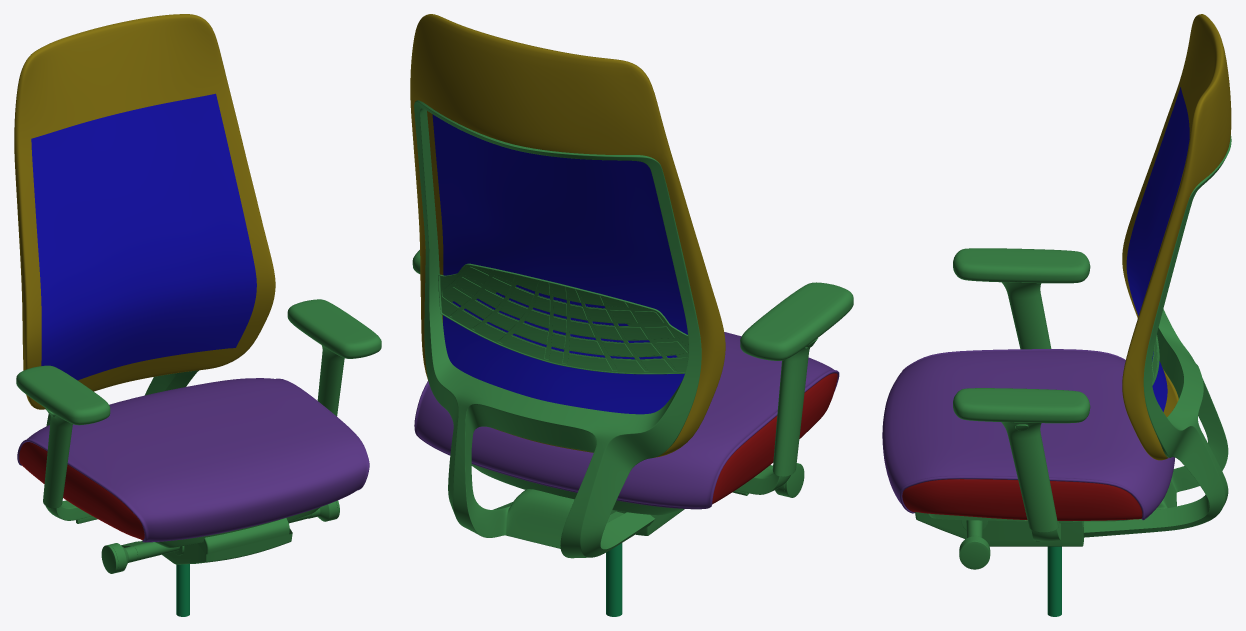
Rendered from SM_Schreibtischstuhl_Oben.fbx.
The picture shows the model from 3 angles, left to right: view 1: azimuth 30°, elevation 25°; view 2: azimuth 150°, elevation 25°; view 3: azimuth 270°, elevation 25°; orthographic projection. The views are drawn at different scales.
Parts seen in each view (by area): view 1: SM_Schreibtischstuhl_Oben; view 2: SM_Schreibtischstuhl_Oben; view 3: SM_Schreibtischstuhl_Oben.
Part boxes in pixels (x1,y1,x2,y2): SM_Schreibtischstuhl_Oben: (14, 14, 381, 616); SM_Schreibtischstuhl_Oben: (410, 14, 853, 616); SM_Schreibtischstuhl_Oben: (882, 14, 1231, 616).
Size of the model in its own units: 63.36 by 101 by 57.37.
